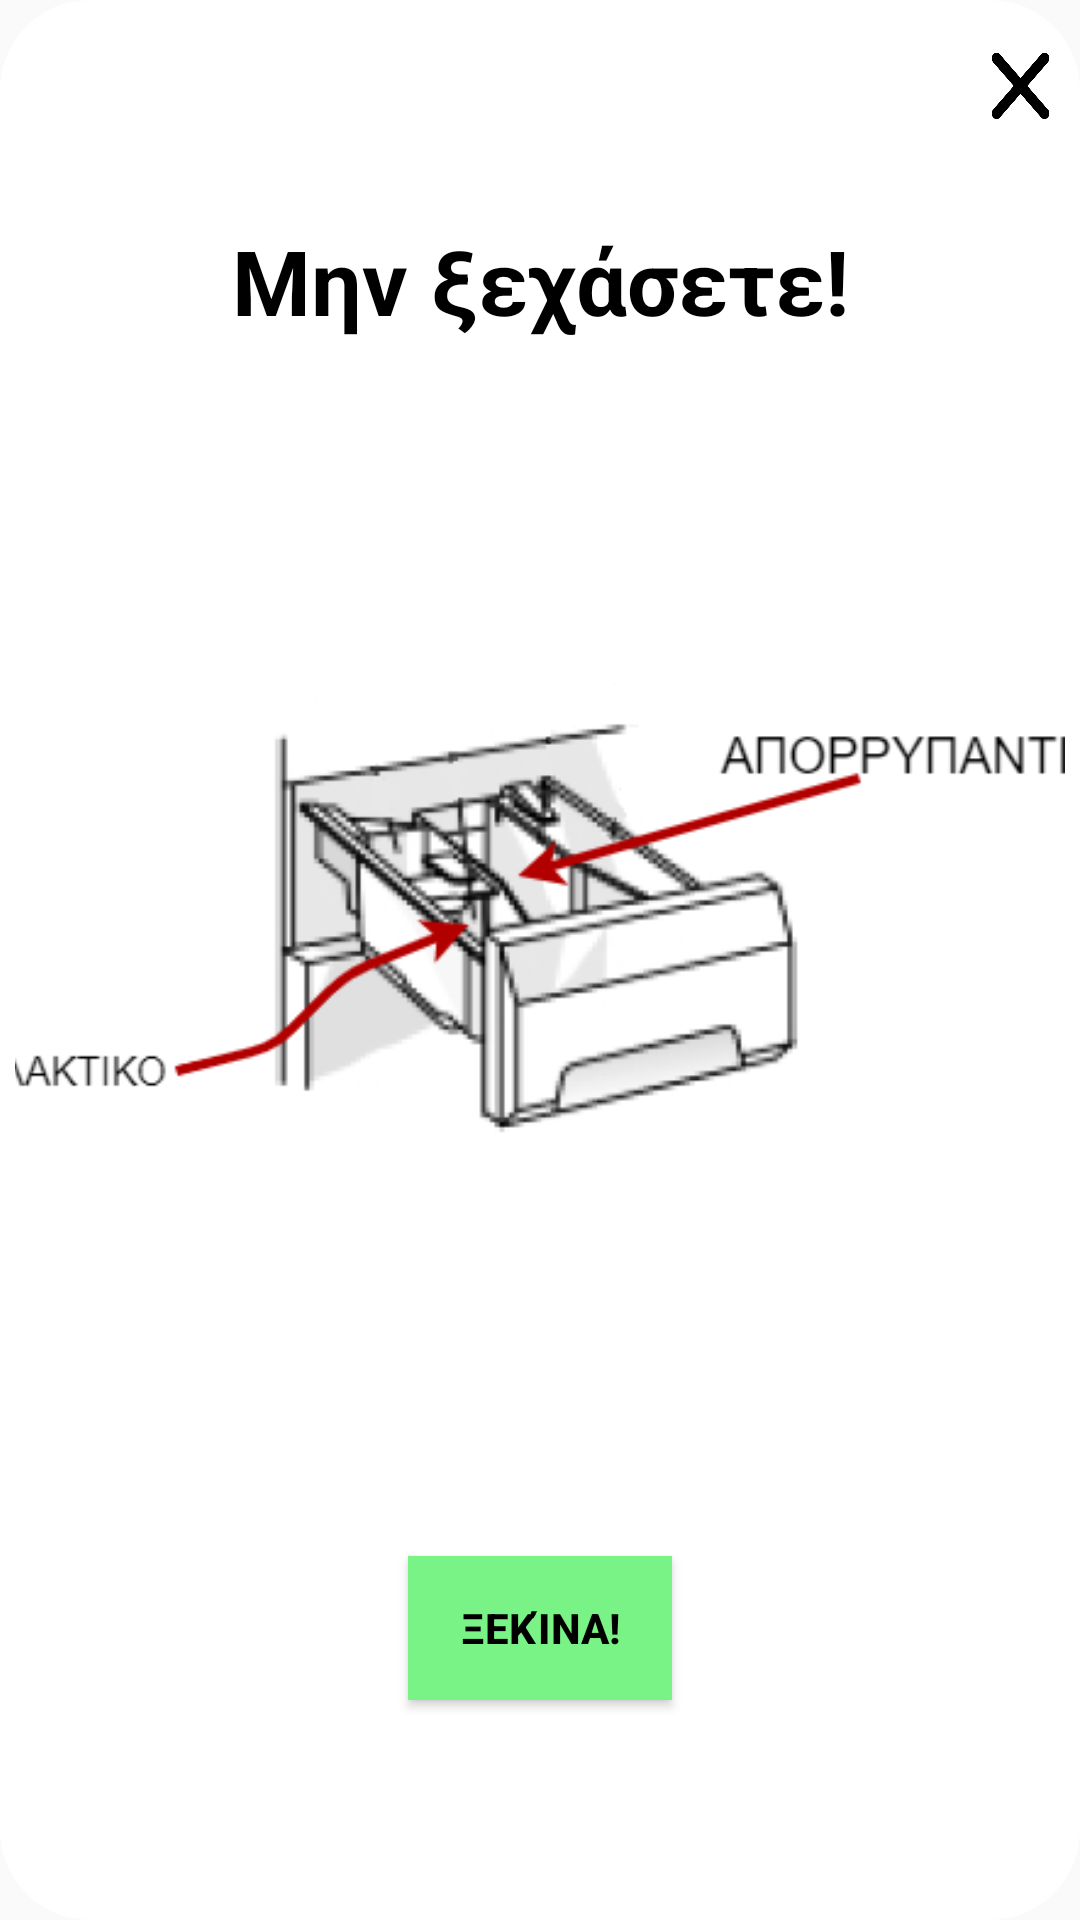

Icon click points for this 1080 × 1920 phone screenshot, format point (x, y):
close: point (1020, 86)
